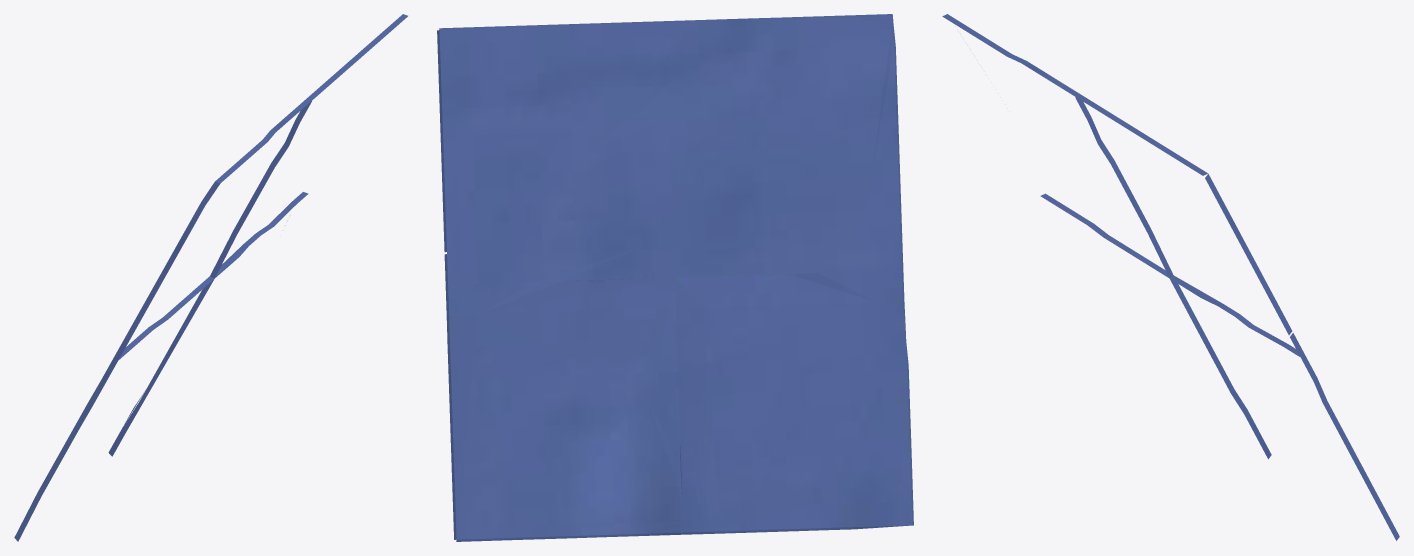
The picture shows the model from 3 angles, left to right: view 1: azimuth 30°, elevation 25°; view 2: azimuth 150°, elevation 25°; view 3: azimuth 270°, elevation 25°; orthographic projection. The views are drawn at different scales.
Size of the model in its own units: 39298 by 35388 by 34751.
1 material, 1 textured.
